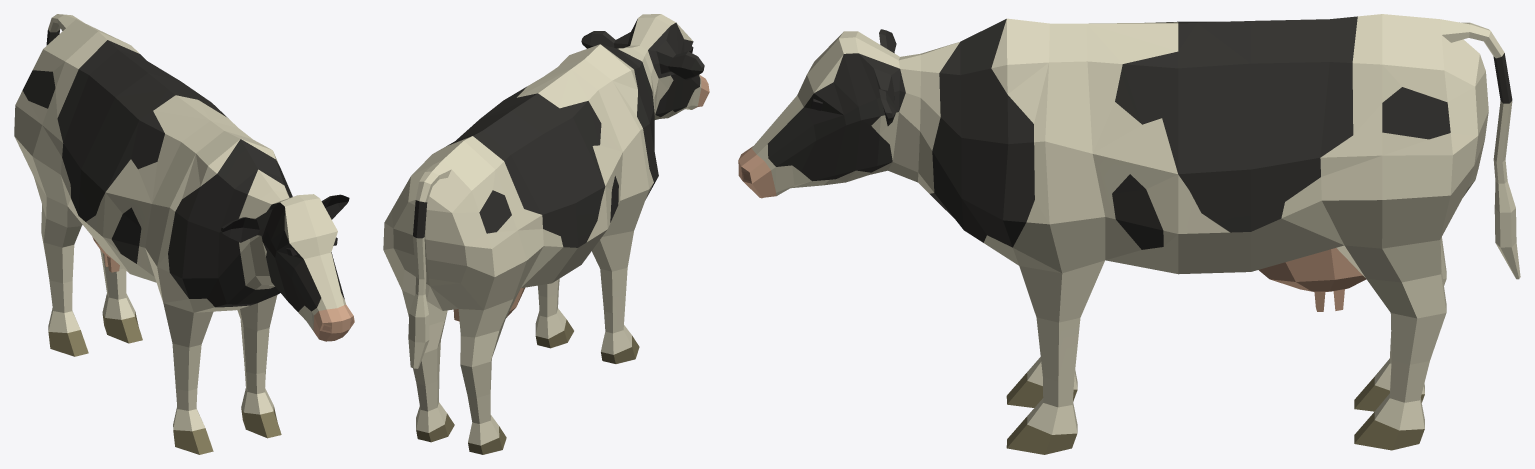
The model's file is Cow.fbx.
The picture shows the model from 3 angles, left to right: view 1: azimuth 30°, elevation 25°; view 2: azimuth 150°, elevation 25°; view 3: azimuth 270°, elevation 25°; orthographic projection. The views are drawn at different scales.
Visible parts, largest first — view 1: Cow; view 2: Cow; view 3: Cow.
Part boxes in pixels (x1,y1,x2,y2): Cow: (14, 14, 354, 454); Cow: (383, 14, 709, 454); Cow: (738, 14, 1520, 454).
Size of the model in its own units: 73.65 by 150 by 260.
